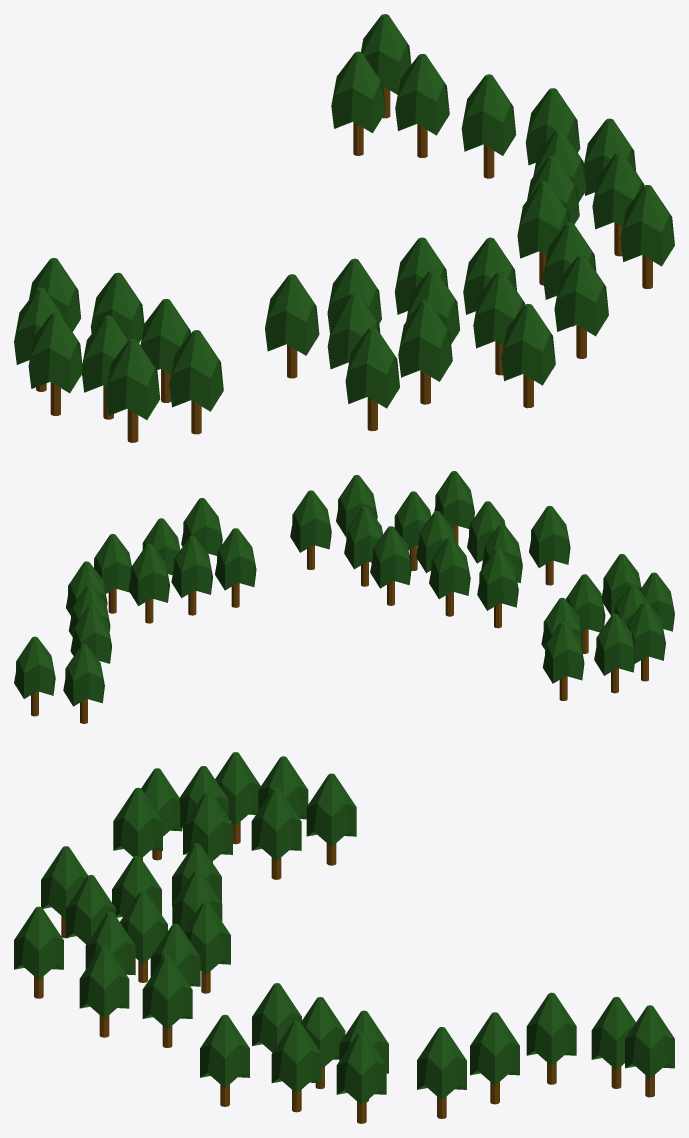
The model's file is Medieval.fbx_Forest.fbx.
3 views of the same model, one above another, from view 1: azimuth 30°, elevation 25°; view 2: azimuth 150°, elevation 25°; view 3: azimuth 270°, elevation 25° (orthographic). The views are drawn at different scales.
Visible parts, largest first — view 1: Tree.030, Tree.027, Tree.007, Tree.003, Tree.006, Tree.011, Tree.023, Tree.024, Tree.005, Tree.022, Tree.014, Tree.029 (+19 smaller); view 2: Tree.028, Tree.018, Tree.015, Tree.021, Tree.017, Tree.011, Tree.014, Tree.012, Tree.004, Tree.023, Tree.025, Tree.016 (+19 smaller); view 3: Tree.017, Tree.005, Tree.009, Tree.004, Tree.022, Tree.019, Tree.020, Tree.006, Tree.024, Tree.025, Tree.026, Tree.027 (+19 smaller).
Boxes of the visible parts, x1,y1,x2,y2 form: Tree.030: (105,338,160,442); Tree.027: (461,74,516,178); Tree.007: (169,330,223,434); Tree.003: (398,300,452,404); Tree.006: (501,304,555,408); Tree.011: (345,327,399,431); Tree.023: (331,51,385,155); Tree.024: (620,185,674,288); Tree.005: (554,254,608,358); Tree.022: (395,54,449,157); Tree.014: (265,274,319,378); Tree.029: (28,311,82,415); Tree.028: (128,544,169,623); Tree.018: (171,536,212,615); Tree.015: (429,537,470,616); Tree.021: (215,528,256,607); Tree.017: (543,621,584,700); Tree.011: (529,506,570,585); Tree.014: (477,548,518,628); Tree.012: (594,613,635,693); Tree.004: (290,490,331,569); Tree.023: (63,644,104,723); Tree.025: (14,636,55,716); Tree.016: (370,526,411,605); Tree.017: (306,773,356,865); Tree.005: (79,945,129,1037); Tree.009: (251,787,301,879); Tree.004: (142,956,192,1047); Tree.022: (526,992,576,1084); Tree.019: (336,1031,386,1123); Tree.020: (271,1020,321,1112); Tree.006: (14,906,63,998); Tree.024: (200,1014,249,1106); Tree.025: (625,1005,674,1097); Tree.026: (417,1027,466,1118); Tree.027: (470,1012,519,1104).
Bounding box in the file's own units: 38884 × 37396 × 6943.
